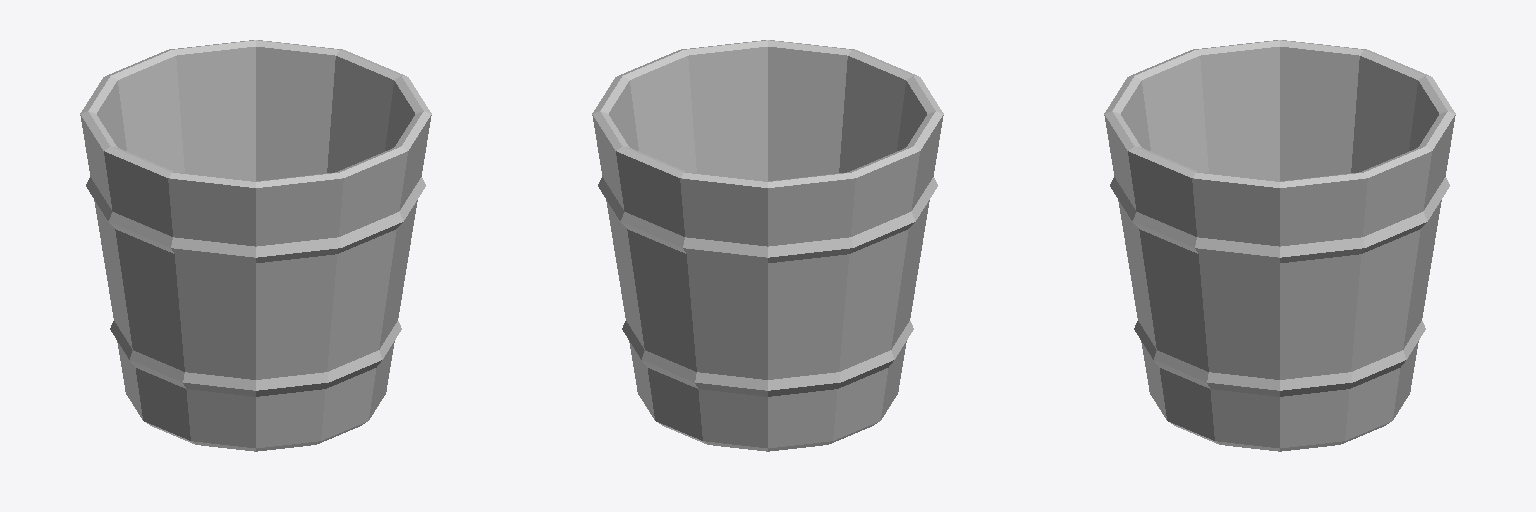
The model's file is bucket_metal.obj.
3 renders of one model, left to right at view 1: azimuth 30°, elevation 25°; view 2: azimuth 150°, elevation 25°; view 3: azimuth 270°, elevation 25°, orthographic.
Visible parts, largest first — view 1: bucket_metal; view 2: bucket_metal; view 3: bucket_metal.
Part boxes in pixels (x1,y1,x2,y2): bucket_metal: (80, 40, 431, 451); bucket_metal: (592, 40, 943, 451); bucket_metal: (1104, 40, 1455, 451).
Bounding box in the file's own units: 0.8 × 0.727 × 0.8.